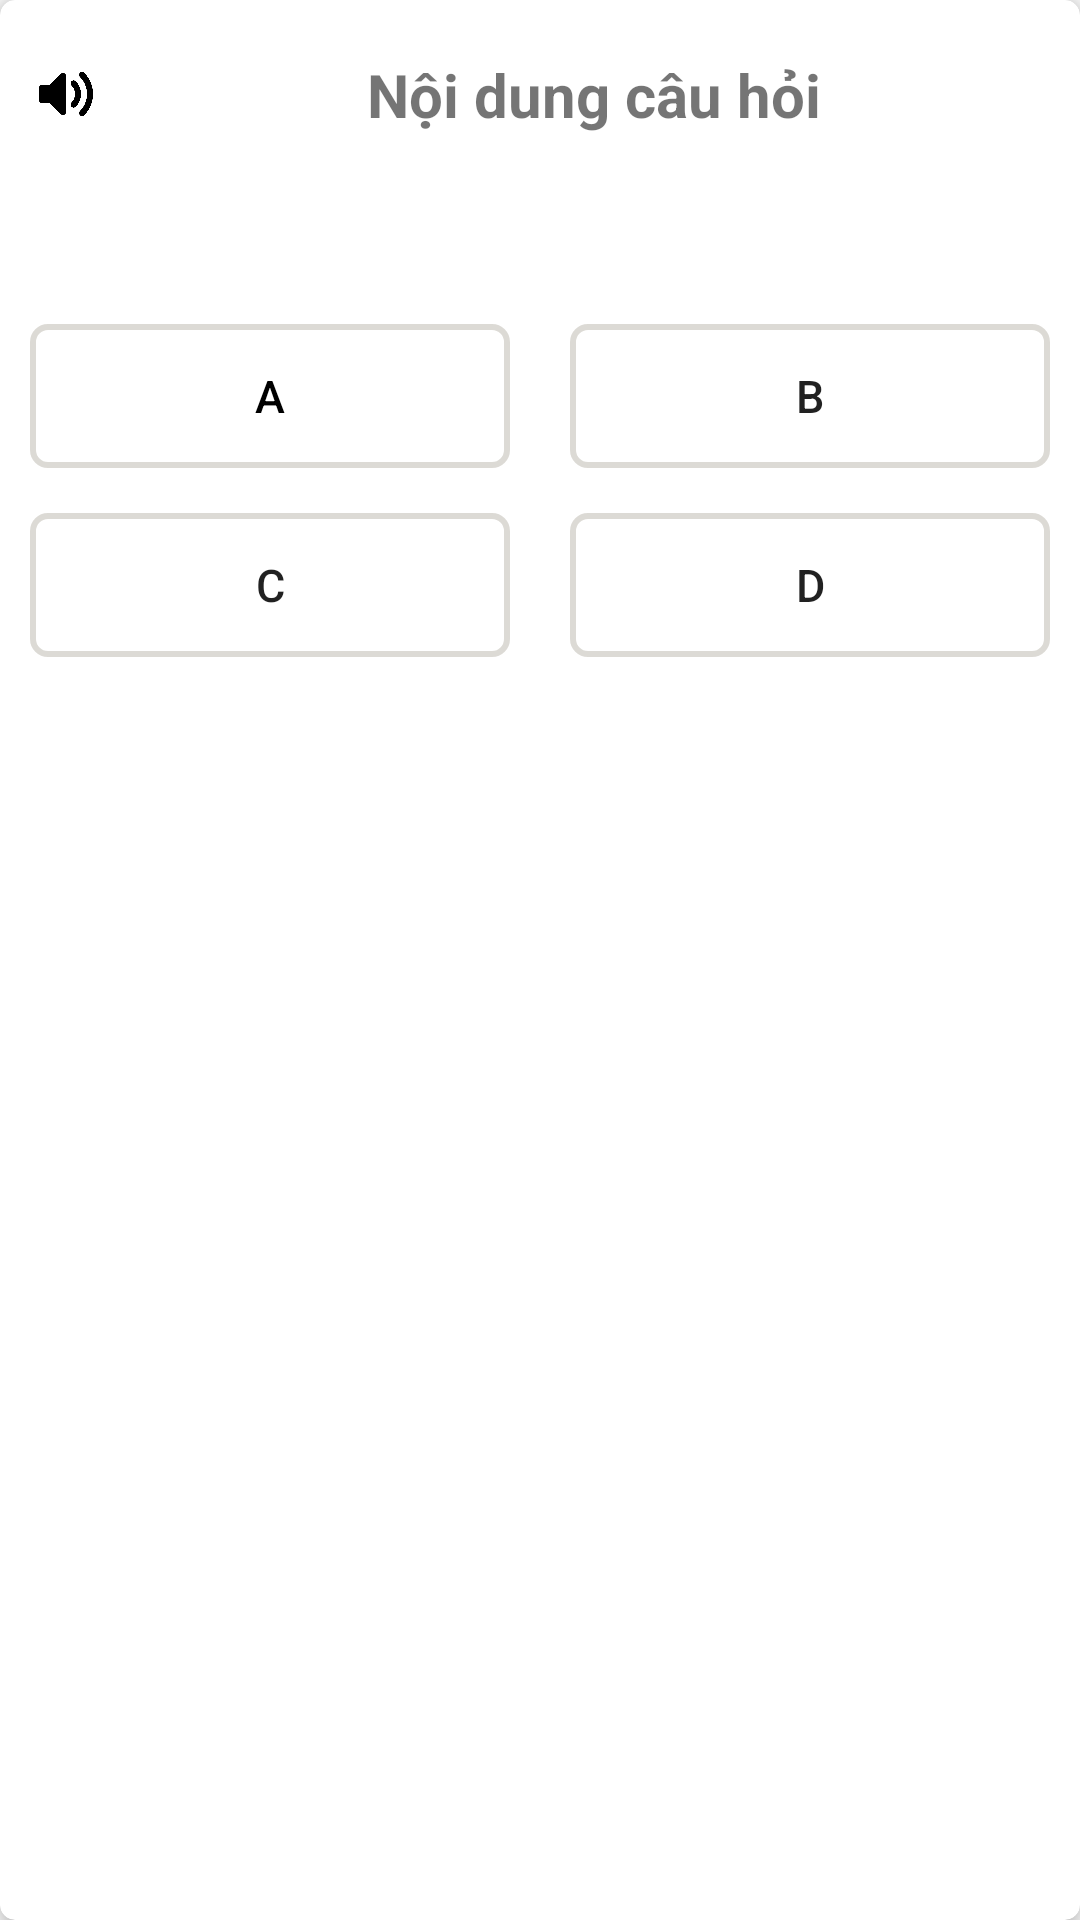

Icon bounding boxes for this 1080*1920 phone screenshot, format (x1, y1, x2, y2):
speaker: (39, 72, 93, 116)
